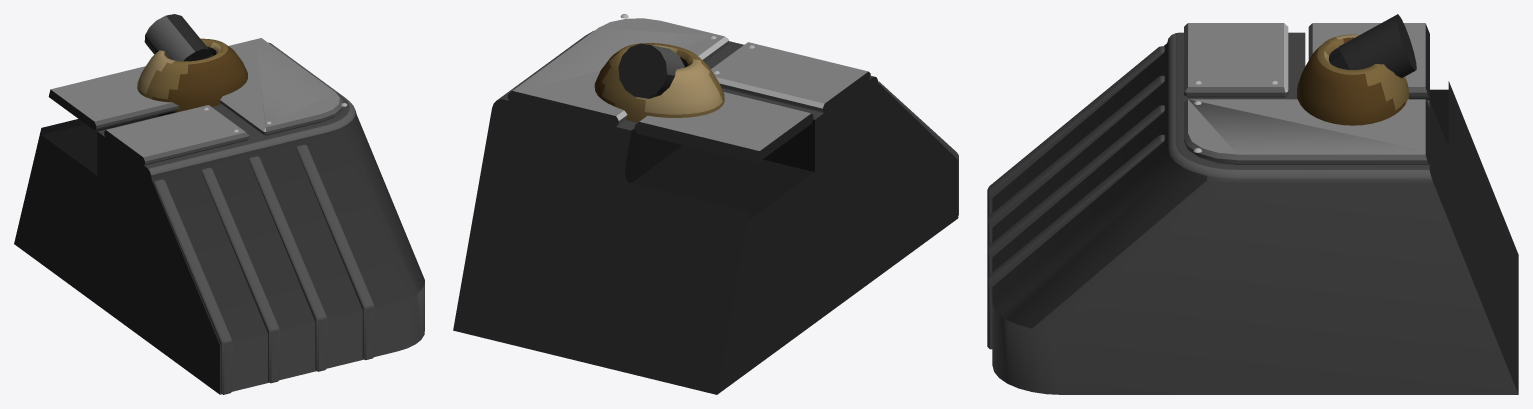
The model's file is asteroid_rig_br.glb.
The picture shows the model from 3 angles, left to right: view 1: azimuth 30°, elevation 25°; view 2: azimuth 150°, elevation 25°; view 3: azimuth 270°, elevation 25°; orthographic projection. The views are drawn at different scales.
Visible parts, largest first — view 1: asteroid_rig_br; view 2: asteroid_rig_br; view 3: asteroid_rig_br.
Part boxes in pixels (<box>): asteroid_rig_br: <box>14,14,424,394</box>; asteroid_rig_br: <box>453,14,958,394</box>; asteroid_rig_br: <box>987,14,1518,394</box>.
Size of the model in its own units: 19 by 19.2 by 30.38.
